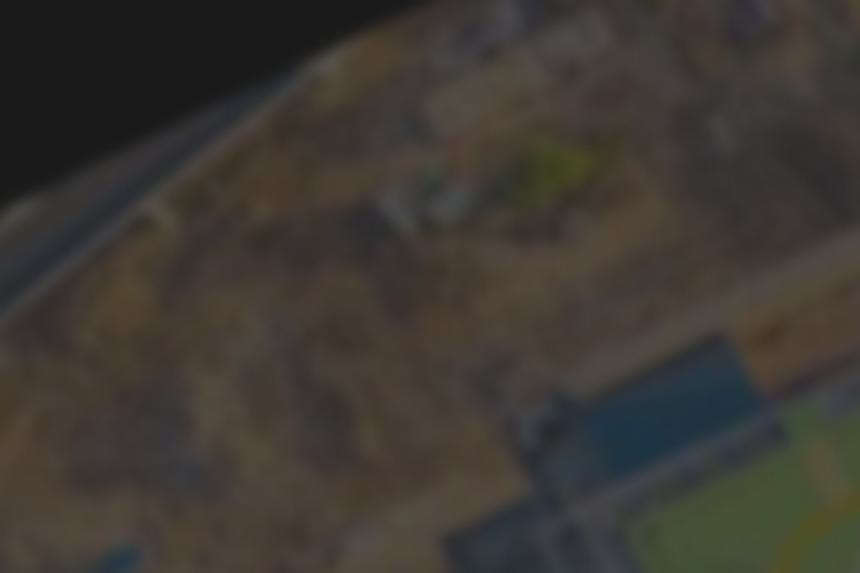Apron: (734, 466, 860, 573)
